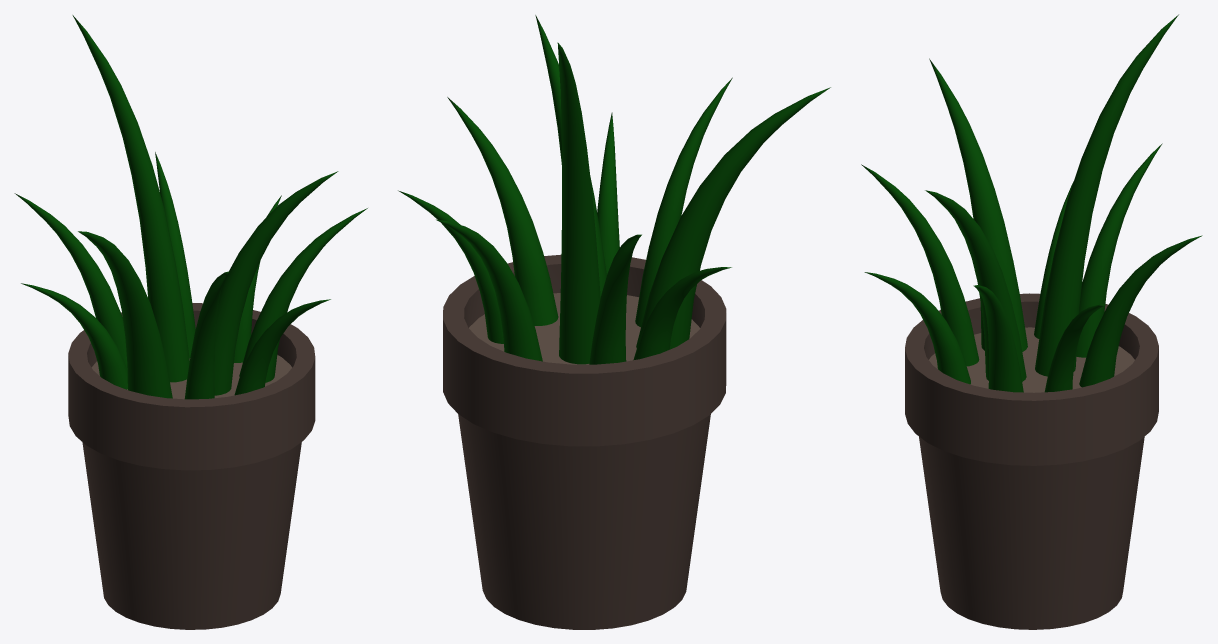
File: Plante5_7.fbx
3 renders of one model, left to right at view 1: azimuth 30°, elevation 25°; view 2: azimuth 150°, elevation 25°; view 3: azimuth 270°, elevation 25°, orthographic. The views are drawn at different scales.
Parts seen in each view (by area): view 1: pCylinder723, pCone18, pCone17, pCone15, pCone10, pCone12, pCone14, pCone19, pCone16, pCone11, pCone13, pCylinder722; view 2: pCylinder723, pCone18, pCone17, pCone12, pCone14, pCone11, pCone10, pCone19, pCylinder722, pCone16, pCone13, pCone15; view 3: pCylinder723, pCone18, pCone17, pCone14, pCone10, pCone11, pCone15, pCone12, pCone16, pCylinder722, pCone13, pCone19.
Part boxes in pixels (x1=…): pCylinder723: x1=68, y1=303, x2=315, y2=629; pCone18: x1=72, y1=15, x2=189, y2=382; pCone17: x1=78, y1=231, x2=172, y2=398; pCone15: x1=214, y1=171, x2=338, y2=395; pCone10: x1=14, y1=193, x2=127, y2=370; pCone12: x1=239, y1=208, x2=367, y2=382; pCone14: x1=184, y1=271, x2=229, y2=399; pCone19: x1=21, y1=283, x2=127, y2=389; pCone16: x1=234, y1=299, x2=330, y2=395; pCone11: x1=155, y1=152, x2=195, y2=357; pCone13: x1=234, y1=195, x2=281, y2=362; pCylinder722: x1=91, y1=355, x2=291, y2=399; pCylinder723: x1=443, y1=254, x2=726, y2=629; pCone18: x1=557, y1=42, x2=600, y2=364; pCone17: x1=636, y1=87, x2=830, y2=349; pCone12: x1=447, y1=97, x2=558, y2=325; pCone14: x1=635, y1=77, x2=732, y2=327; pCone11: x1=436, y1=219, x2=542, y2=361; pCone10: x1=589, y1=234, x2=641, y2=364; pCone19: x1=633, y1=267, x2=731, y2=360; pCylinder722: x1=469, y1=293, x2=700, y2=364; pCone16: x1=597, y1=112, x2=619, y2=274; pCone13: x1=398, y1=190, x2=503, y2=343; pCone15: x1=535, y1=15, x2=606, y2=297; pCylinder723: x1=905, y1=293, x2=1158, y2=629; pCone18: x1=1035, y1=14, x2=1178, y2=376; pCone17: x1=929, y1=58, x2=1027, y2=351; pCone14: x1=861, y1=164, x2=979, y2=366; pCone10: x1=1076, y1=143, x2=1162, y2=357; pCone11: x1=1079, y1=235, x2=1202, y2=387; pCone15: x1=925, y1=190, x2=1026, y2=381; pCone12: x1=973, y1=285, x2=1023, y2=392; pCone16: x1=864, y1=272, x2=970, y2=384; pCylinder722: x1=929, y1=327, x2=1134, y2=392; pCone13: x1=1044, y1=304, x2=1105, y2=392; pCone19: x1=1034, y1=181, x2=1073, y2=338.
Bounding box in the file's own units: 16.39 × 26.9 × 15.12.
